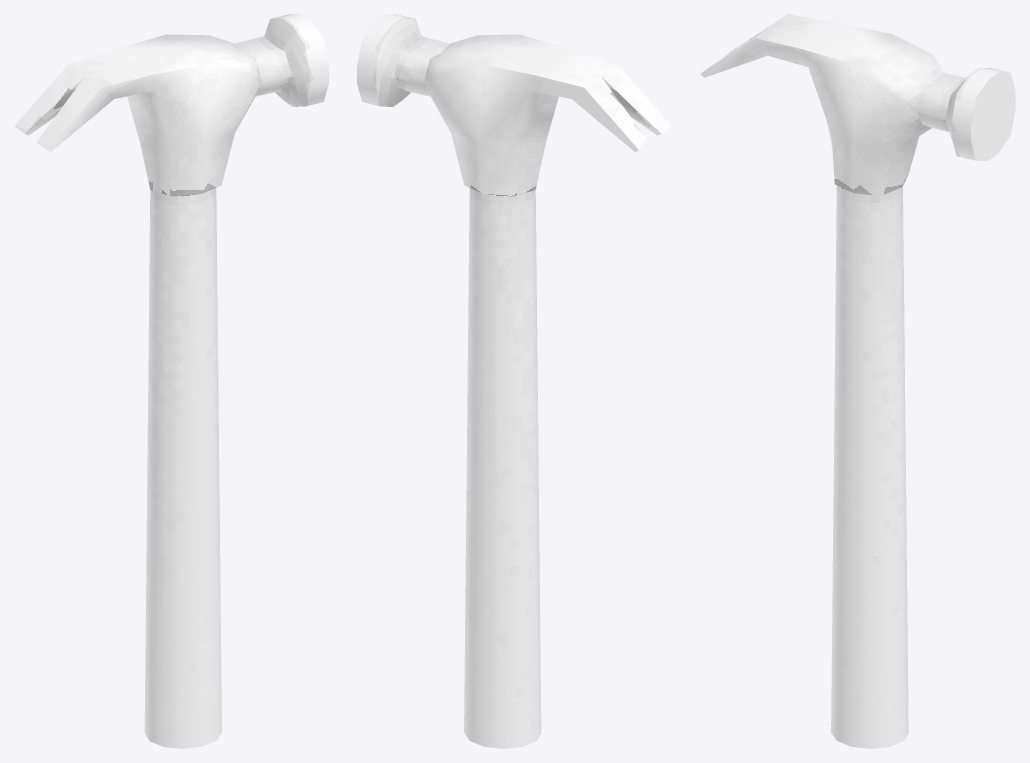
The model's file is Hammer.glb.
3 views of the same model, side by side, from view 1: azimuth 30°, elevation 25°; view 2: azimuth 150°, elevation 25°; view 3: azimuth 330°, elevation 25° (orthographic).
Visible parts, largest first — view 1: Hammer; view 2: Hammer; view 3: Hammer.
Part boxes in pixels (x1,y1,x2,y2): Hammer: (14,14,328,748); Hammer: (357,14,671,748); Hammer: (700,14,1015,748).
Bounding box in the file's own units: 0.163 × 0.3866 × 0.0456.
1 material, 1 textured.
